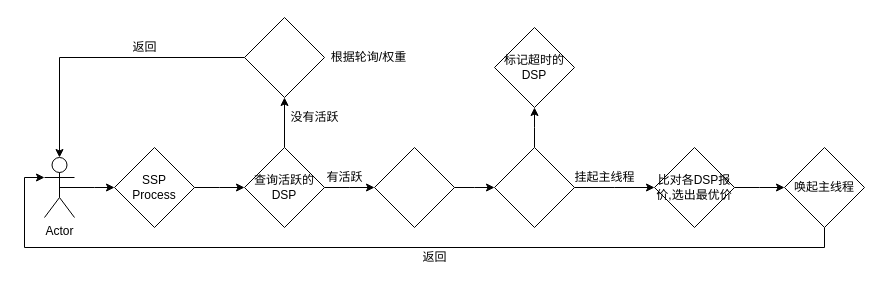
Image size: 882x285. Some labels were removed from this diagram. Here are the shapes that lost their labels. From the top down, the centre of each, then its label:
At point 284,57: "获取内部广告".
At point 414,187: "按照DSP活跃数启动线程池".
At point 534,187: "请求各DSP 当到达100ms时停止".
